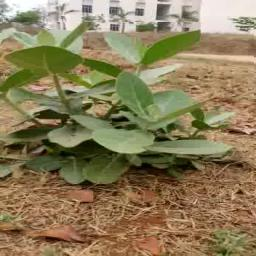CALOTROPIS: (2, 22, 255, 185)
